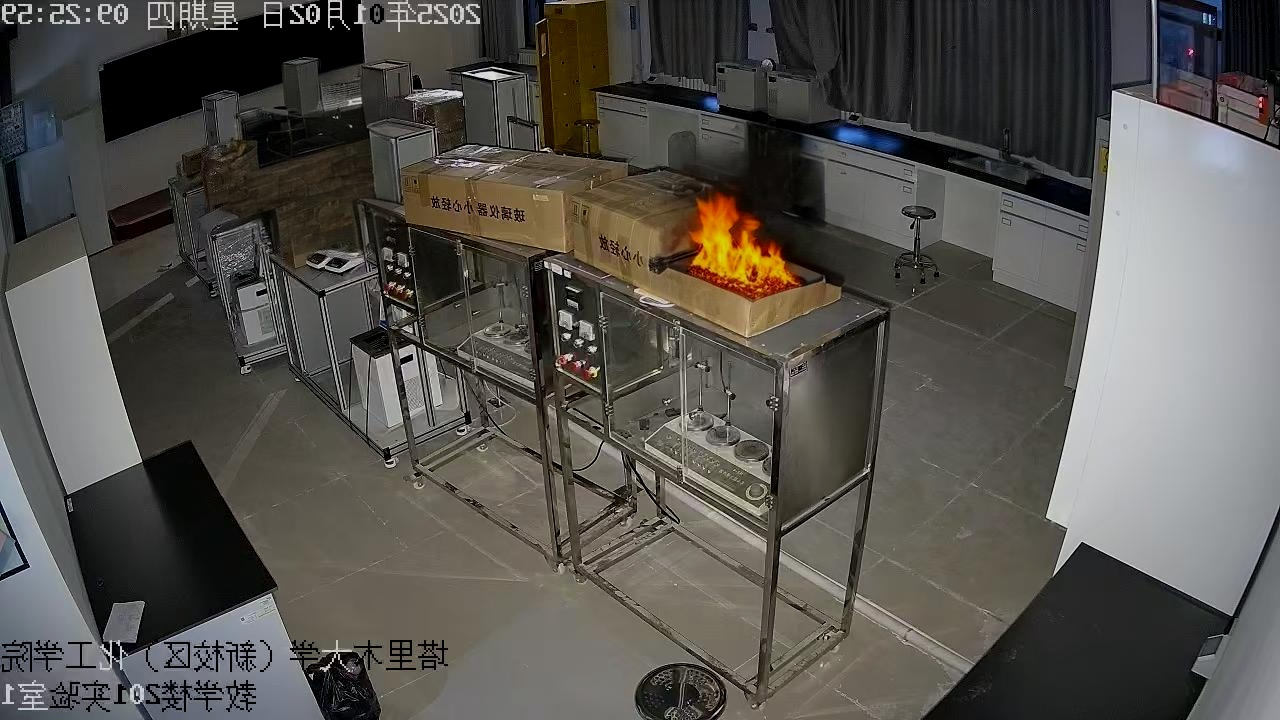fire: (647, 159, 812, 324)
